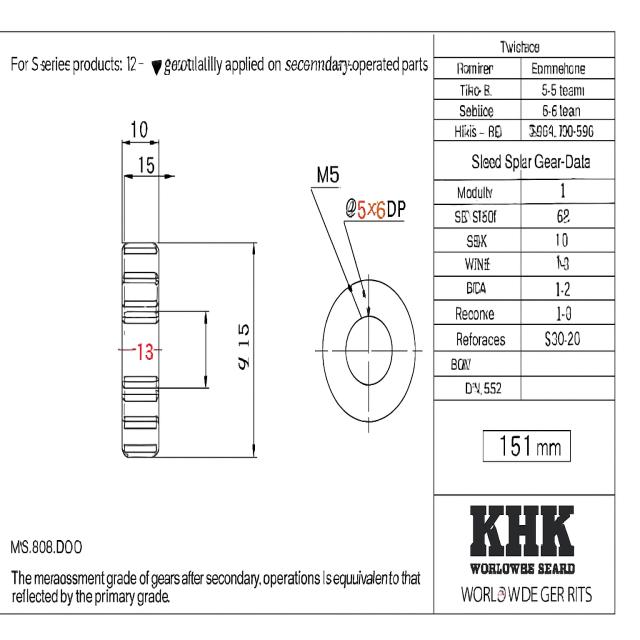Sectional view: (82, 114, 264, 479)
Table 1: (433, 36, 618, 610)
Top view: (296, 160, 425, 445)
text1: (11, 50, 431, 78)
text2: (9, 535, 422, 616)
